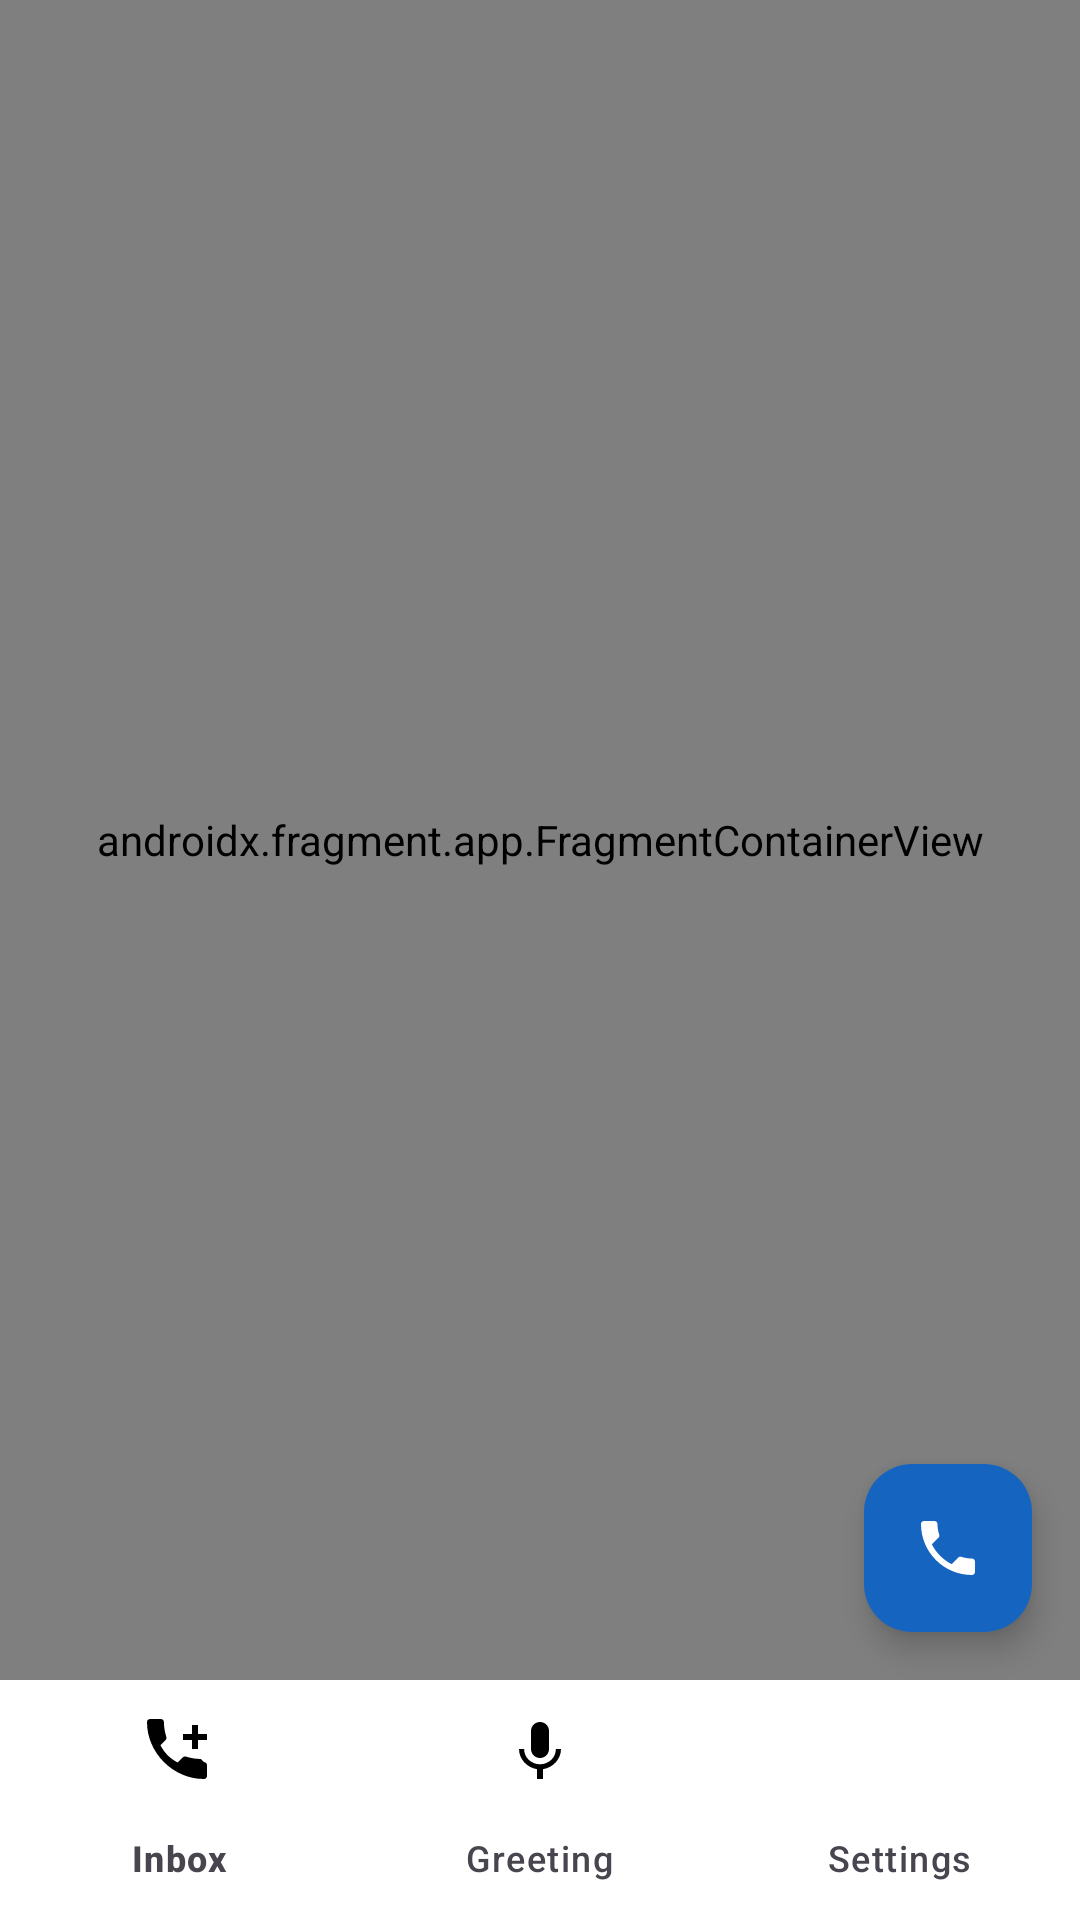

Icon bounding boxes for this 1080px x 1920px phone screenshot, format (x1, y1, x2, y2):
Open Dialer: (864, 1464, 1032, 1632)
